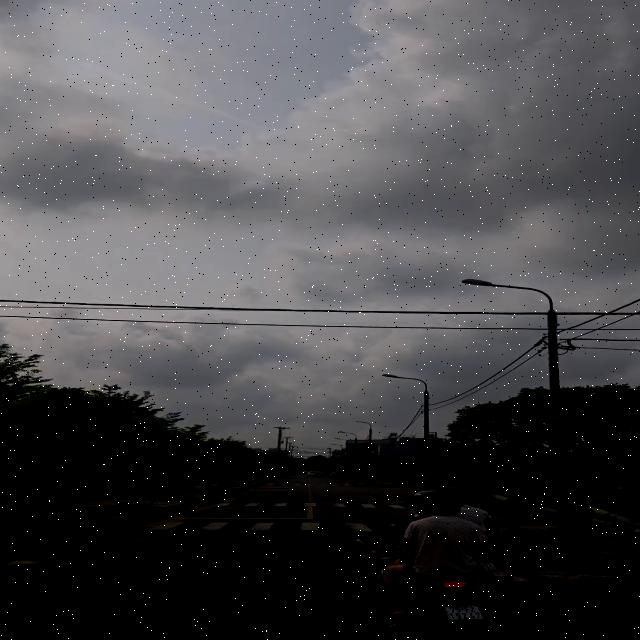helmet: (411, 490, 435, 512)
